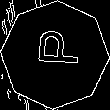P_W: (29, 35, 81, 75)
